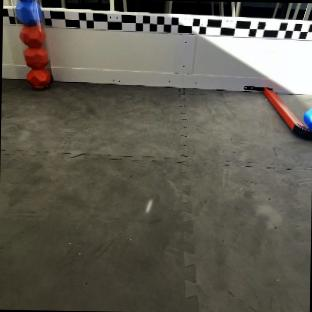V5_RED: (20, 24, 45, 46), (27, 66, 50, 89)
